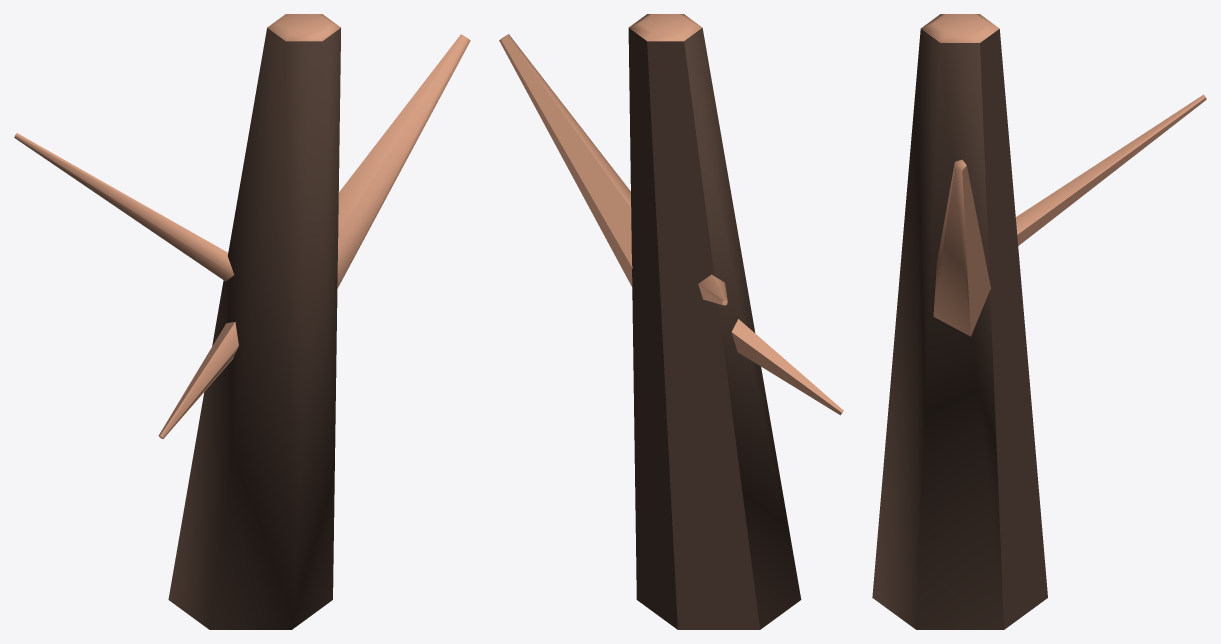
The model's file is dead_tree_01.glb.
The picture shows the model from 3 angles, left to right: view 1: azimuth 30°, elevation 25°; view 2: azimuth 150°, elevation 25°; view 3: azimuth 270°, elevation 25°; orthographic projection. The views are drawn at different scales.
Visible parts, largest first — view 1: dead_tree_01; view 2: dead_tree_01; view 3: dead_tree_01.
Boxes of the visible parts, x1,y1,x2,y2 form: dead_tree_01: [14, 14, 470, 629]; dead_tree_01: [499, 14, 843, 629]; dead_tree_01: [872, 14, 1206, 629].
Bounding box in the file's own units: 1.92 × 3.02 × 1.52.
